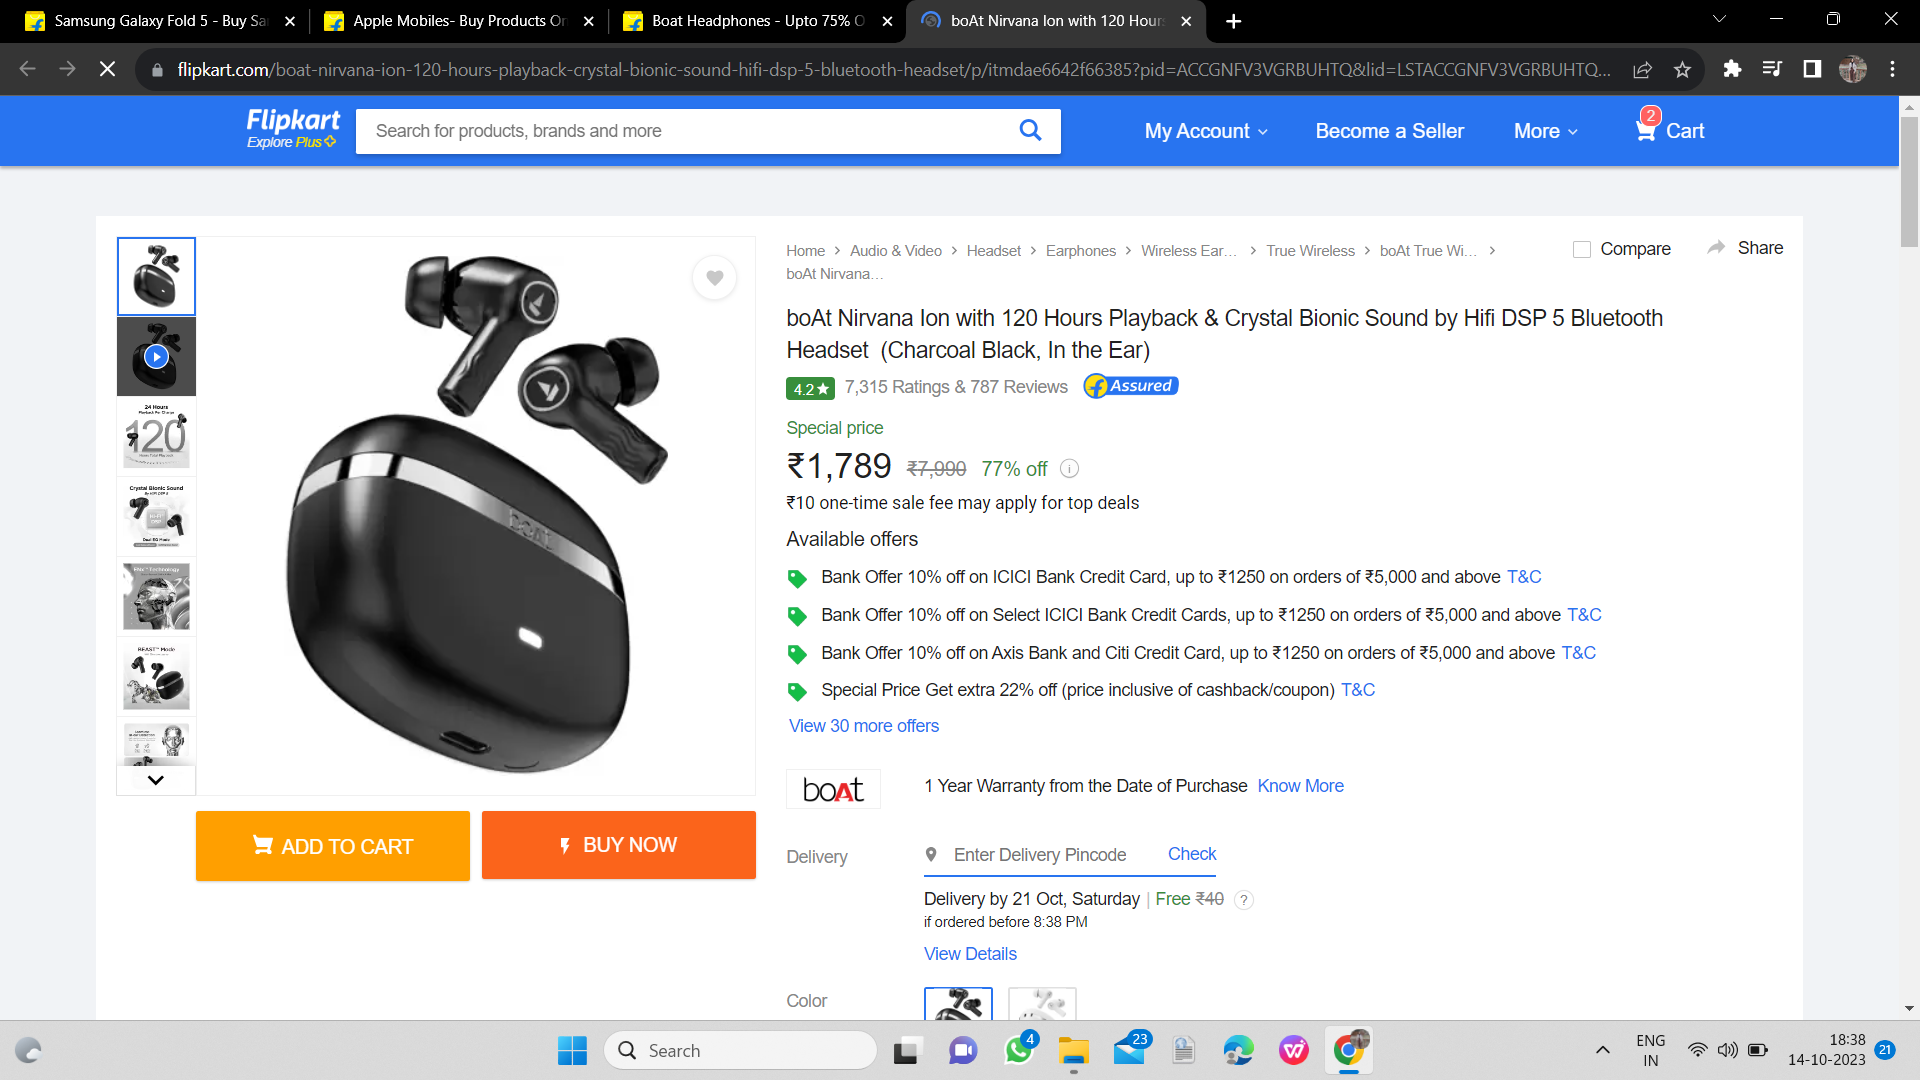Image: (207, 237, 760, 791), (342, 92, 1097, 166)
Paragraph: (781, 566, 1638, 696), (781, 291, 1675, 367), (187, 798, 770, 886), (798, 764, 1350, 807), (1129, 112, 1726, 149), (783, 421, 1092, 479), (777, 369, 1188, 401), (777, 489, 1146, 513), (783, 525, 930, 549)
